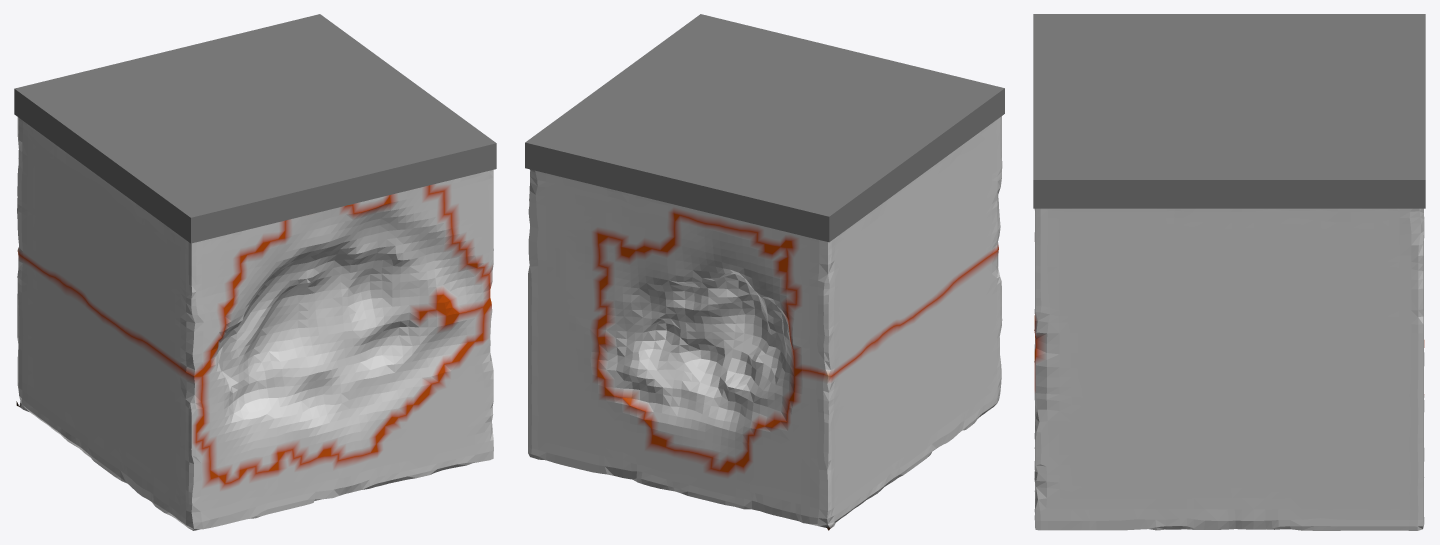
File: c_wood_nbars.fbx
3 renders of one model, left to right at view 1: azimuth 30°, elevation 25°; view 2: azimuth 150°, elevation 25°; view 3: azimuth 270°, elevation 25°, orthographic. The views are drawn at different scales.
Visible parts, largest first — view 1: blockshaved_oPP, wood; view 2: blockshaved_oPP, wood; view 3: blockshaved_oPP, wood.
Boxes of the visible parts, <box> form: blockshaved_oPP: <box>16,117,493,530</box>; wood: <box>14,14,496,243</box>; blockshaved_oPP: <box>528,116,1002,530</box>; wood: <box>525,14,1004,242</box>; blockshaved_oPP: <box>1034,208,1424,530</box>; wood: <box>1033,14,1425,208</box>.
Bounding box in the file's own units: 2.02 × 2 × 2.02.
